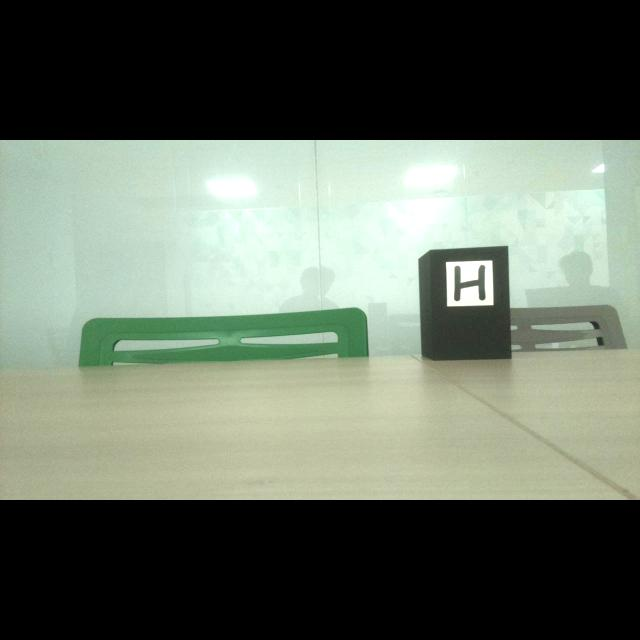H: (454, 265, 486, 301)
